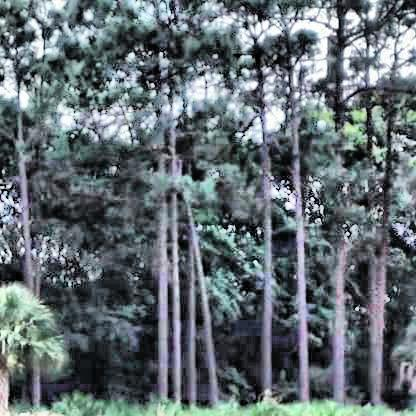golfball: (314, 118, 323, 128)
